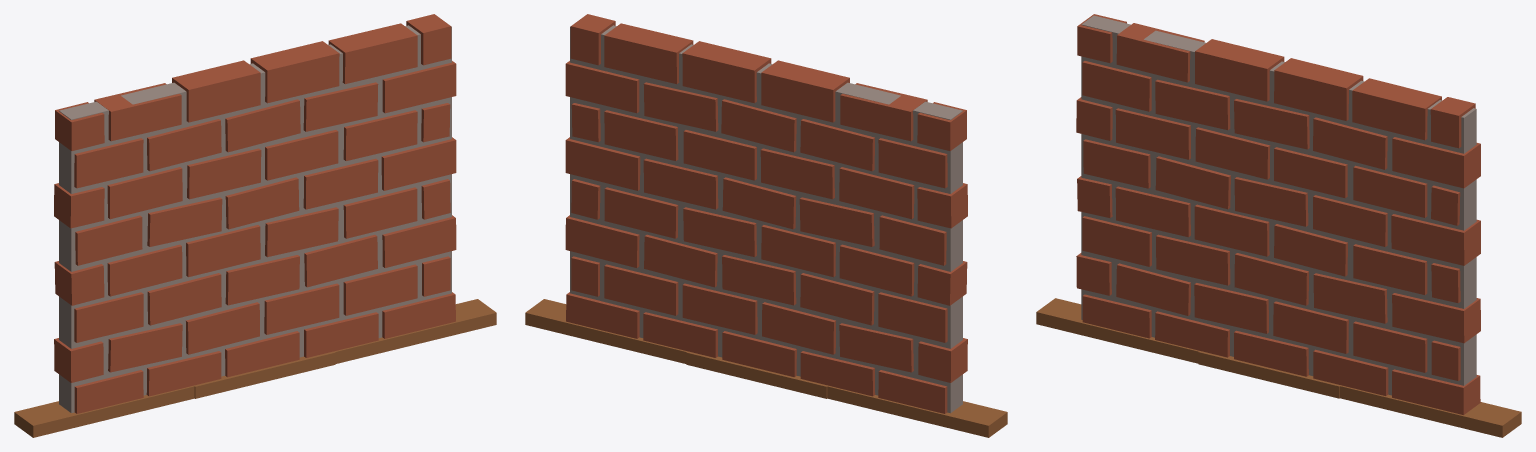
The model's file is wall_brick_tiles.glb.
3 renders of one model, left to right at view 1: azimuth 30°, elevation 25°; view 2: azimuth 150°, elevation 25°; view 3: azimuth 330°, elevation 25°, orthographic.
Parts seen in each view (by area): view 1: T1, T5, T3, T7, T2, A2Hi, A2Lo, B8Hi, T0, B0Hi, TrimD, A6Hi (+11 smaller); view 2: T1, T5, T3, T7, A2Hi, A2Lo, B0Hi, B8Hi, B0Lo, TrimD, A6Hi, A4Lo (+11 smaller); view 3: T1, T3, T5, T7, B0Hi, B0Lo, A2Hi, A6Hi, A2Lo, TrimD, B8Hi, A4Hi (+10 smaller).
Boxes of the visible parts, x1,y1,x2,y2 form: T1: [183, 44, 328, 187]; T5: [54, 188, 199, 318]; T3: [326, 124, 456, 257]; T7: [197, 258, 328, 383]; T2: [55, 83, 199, 208]; A2Hi: [60, 75, 199, 187]; A2Lo: [54, 109, 198, 219]; B8Hi: [54, 289, 198, 413]; T0: [326, 21, 456, 156]; B0Hi: [312, 14, 451, 155]; TrimD: [14, 299, 496, 437]; A6Hi: [328, 226, 456, 322]; T1: [693, 44, 838, 187]; T5: [822, 188, 967, 318]; T3: [565, 124, 695, 257]; T7: [693, 258, 824, 383]; A2Hi: [822, 75, 960, 187]; A2Lo: [823, 109, 967, 219]; B0Hi: [570, 14, 709, 155]; B8Hi: [823, 289, 967, 413]; B0Lo: [565, 26, 693, 156]; TrimD: [525, 299, 1007, 437]; A6Hi: [565, 226, 693, 322]; A4Lo: [694, 188, 824, 288]; T1: [1206, 41, 1351, 186]; T3: [1335, 187, 1480, 319]; T5: [1076, 123, 1207, 256]; T7: [1206, 257, 1337, 383]; B0Hi: [1335, 73, 1475, 186]; B0Lo: [1336, 108, 1480, 216]; A2Hi: [1083, 16, 1222, 154]; A6Hi: [1335, 288, 1480, 414]; A2Lo: [1076, 14, 1205, 154]; TrimD: [1036, 298, 1521, 437]; B8Hi: [1076, 224, 1204, 321]; A4Hi: [1206, 155, 1337, 287].
Bounding box in the file's own units: 4.8 × 3.06 × 0.36.
